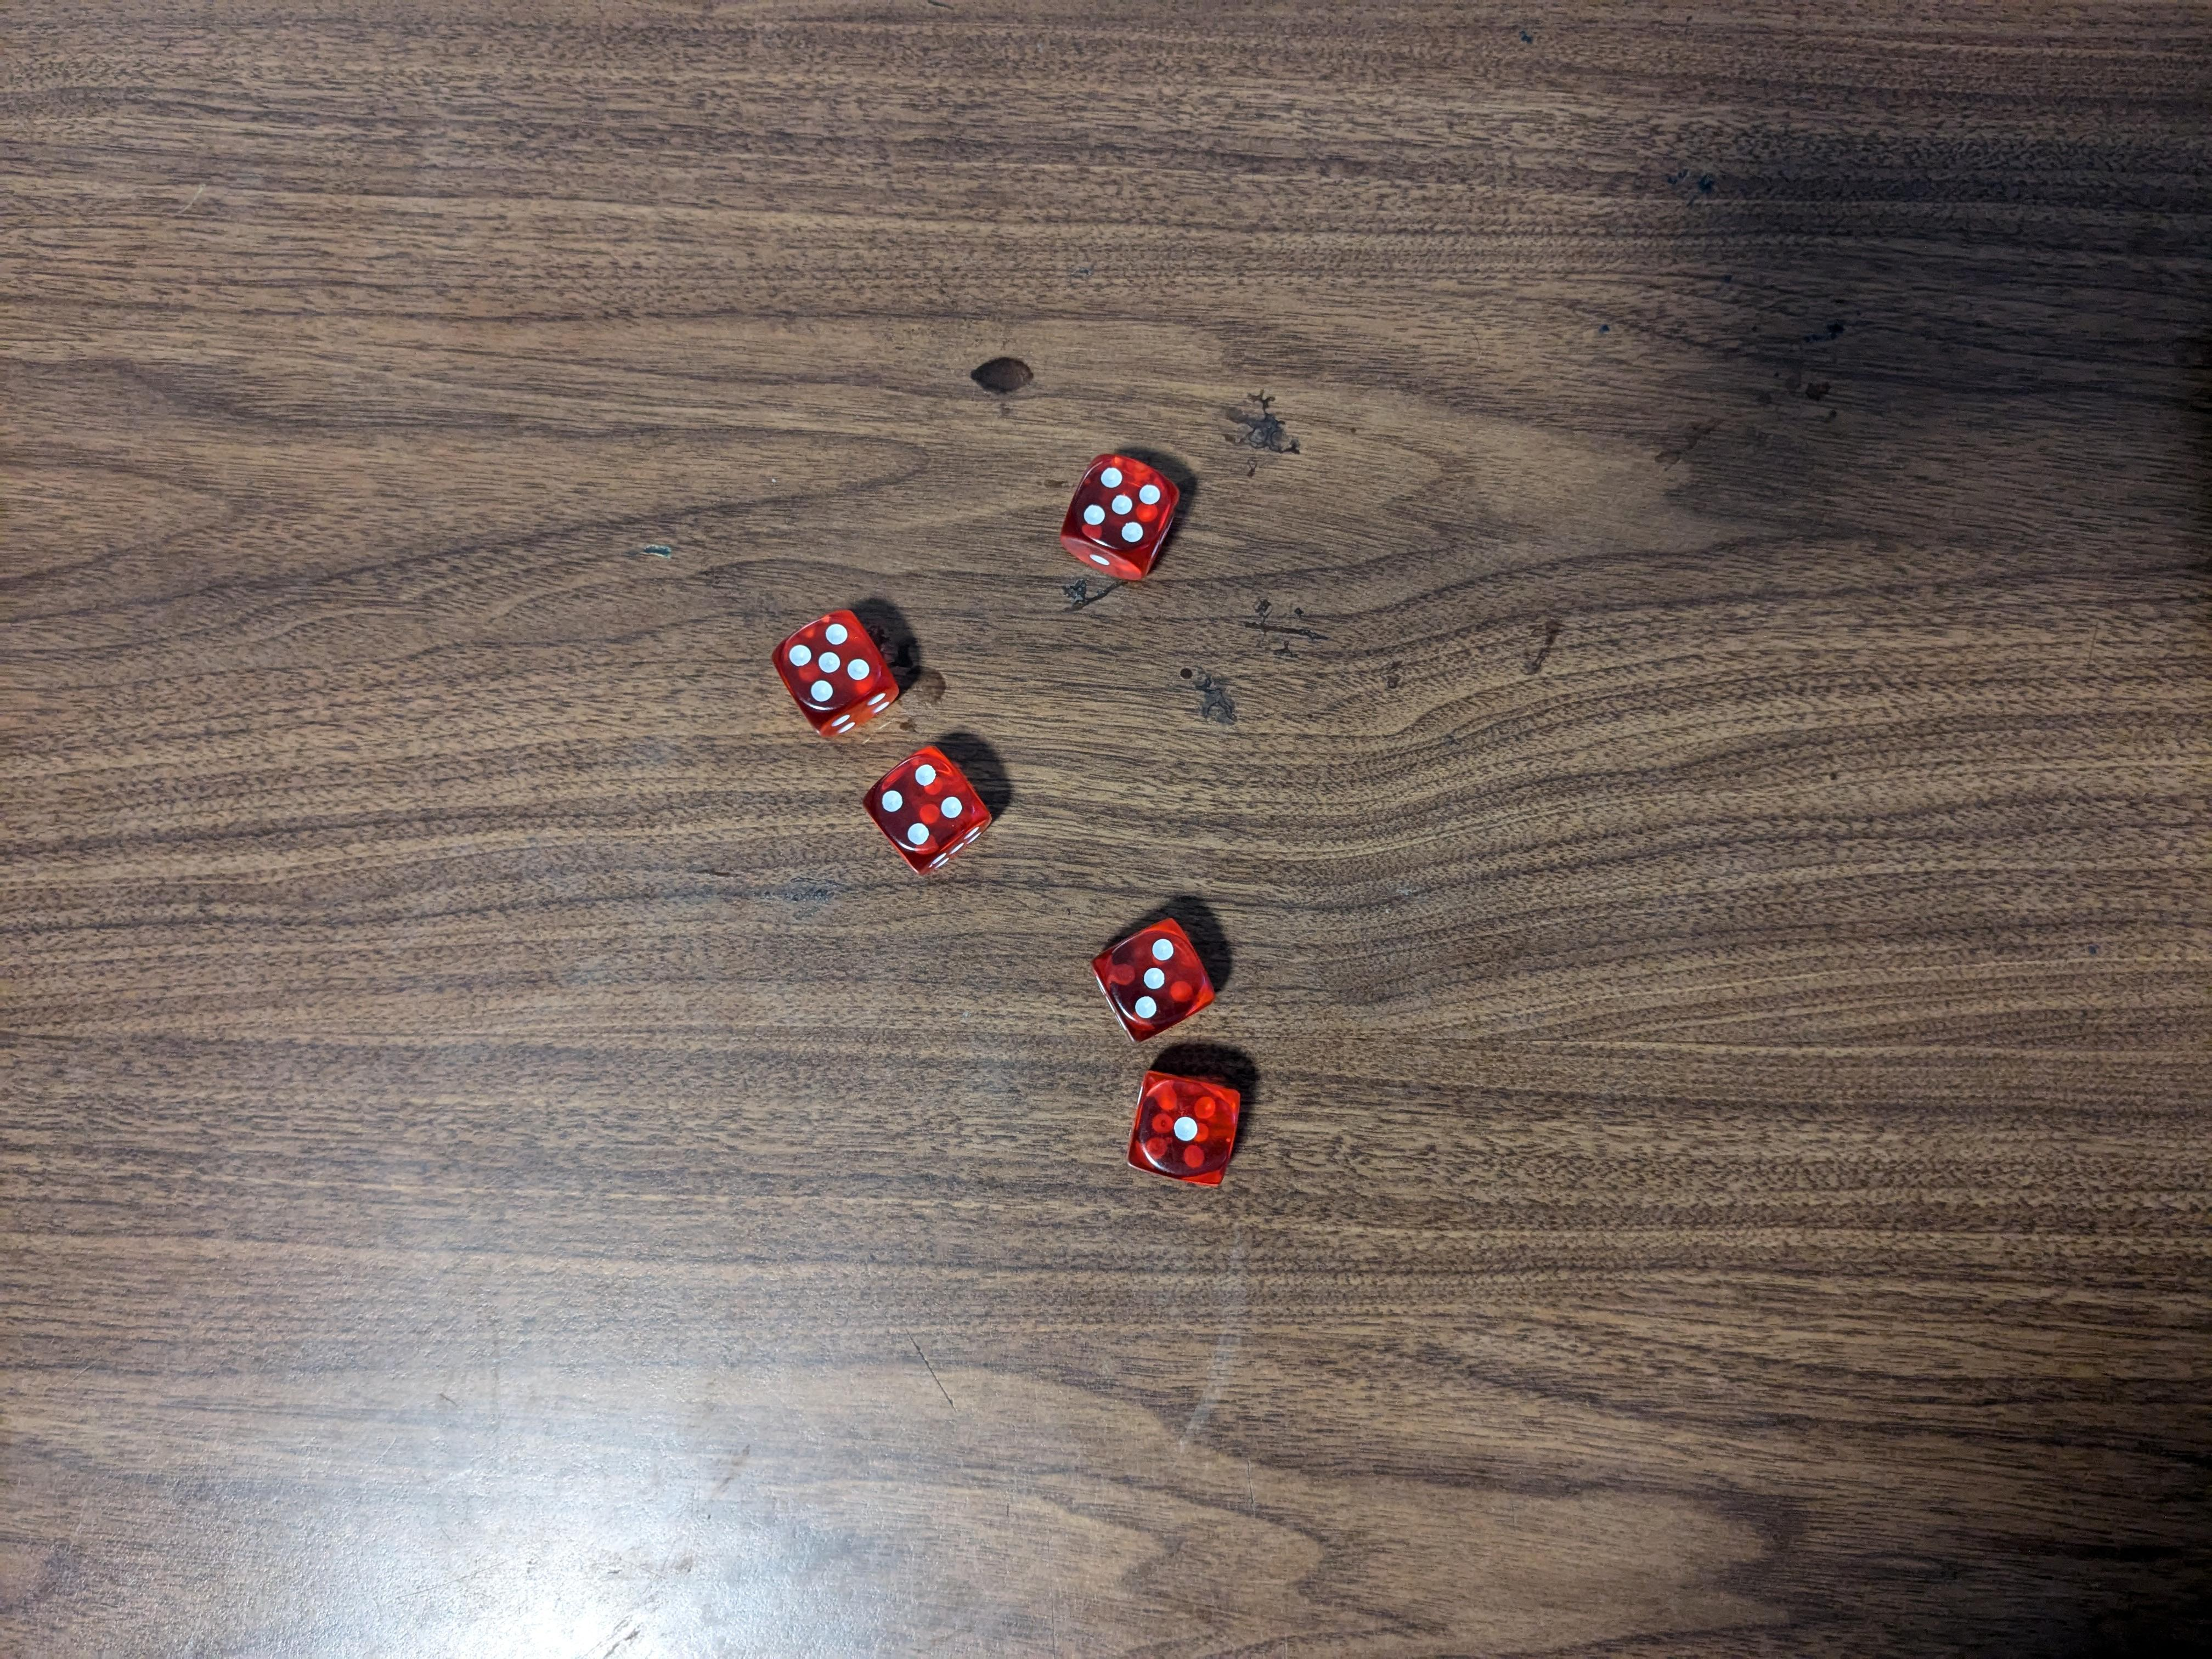five: (770, 608, 899, 742), (1061, 448, 1188, 584)
four: (860, 744, 989, 871)
one: (1129, 1063, 1240, 1190)
three: (1087, 908, 1216, 1044)
